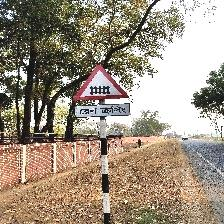Rail-crossing: (72, 65, 131, 119)
